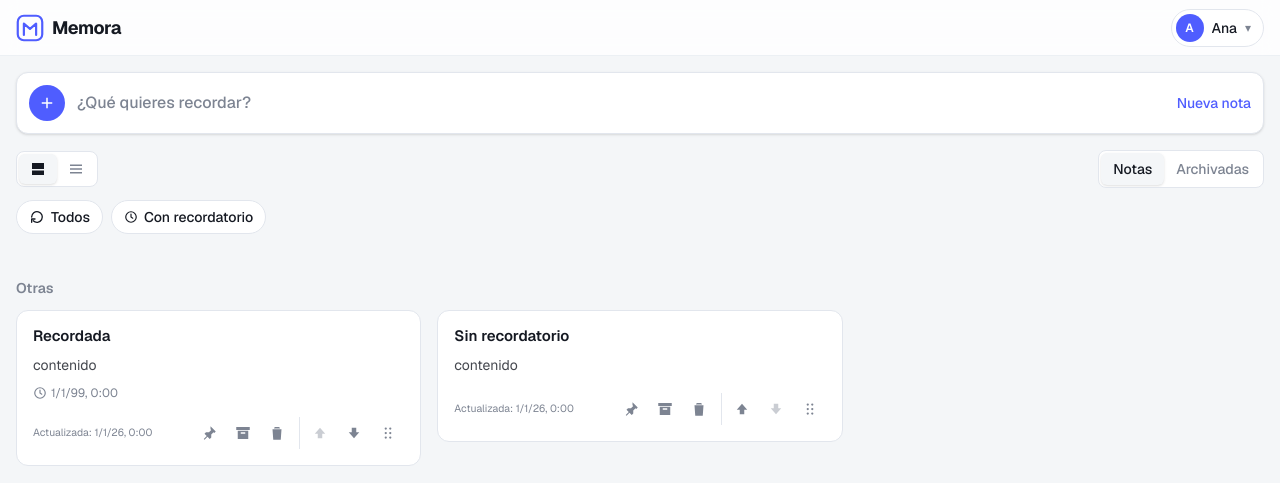
Test: NotesPage · filtros › filtra por recordatorio (RF-2, RF-8)
This screenshot has width=1280, height=483.
Check: the heading "Sin recordatorio" is shown, box [454,326,569,345]
Click the button "Con recordatorio" at [189, 217], box [111,200,266,234]
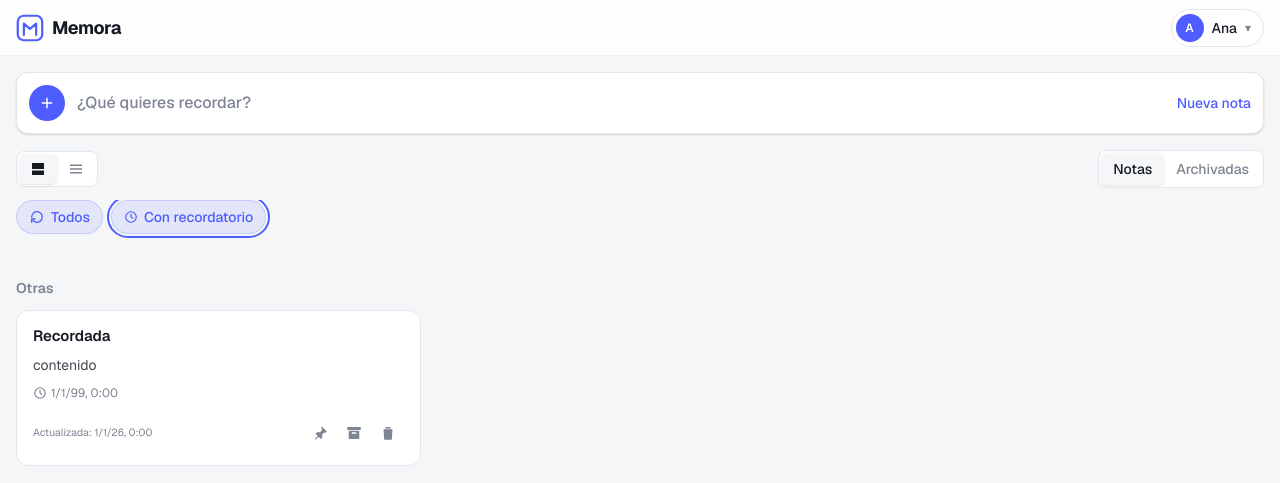
Check: the heading "Recordada" is shown, box [33,326,110,345]
Check: the button "Sin recordatorio" is gone
